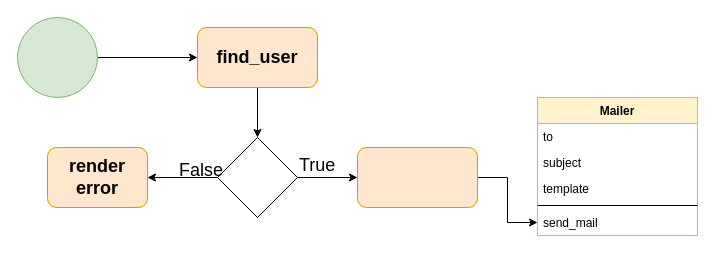
The diagram is 715 pixels wide and 256 high, and some of its shapes have lost their labels. The box of each missing label's shape, as (x1, y1, x2, y2) in pixels:
email: (16, 16, 98, 98)
generate token: (356, 146, 478, 208)
